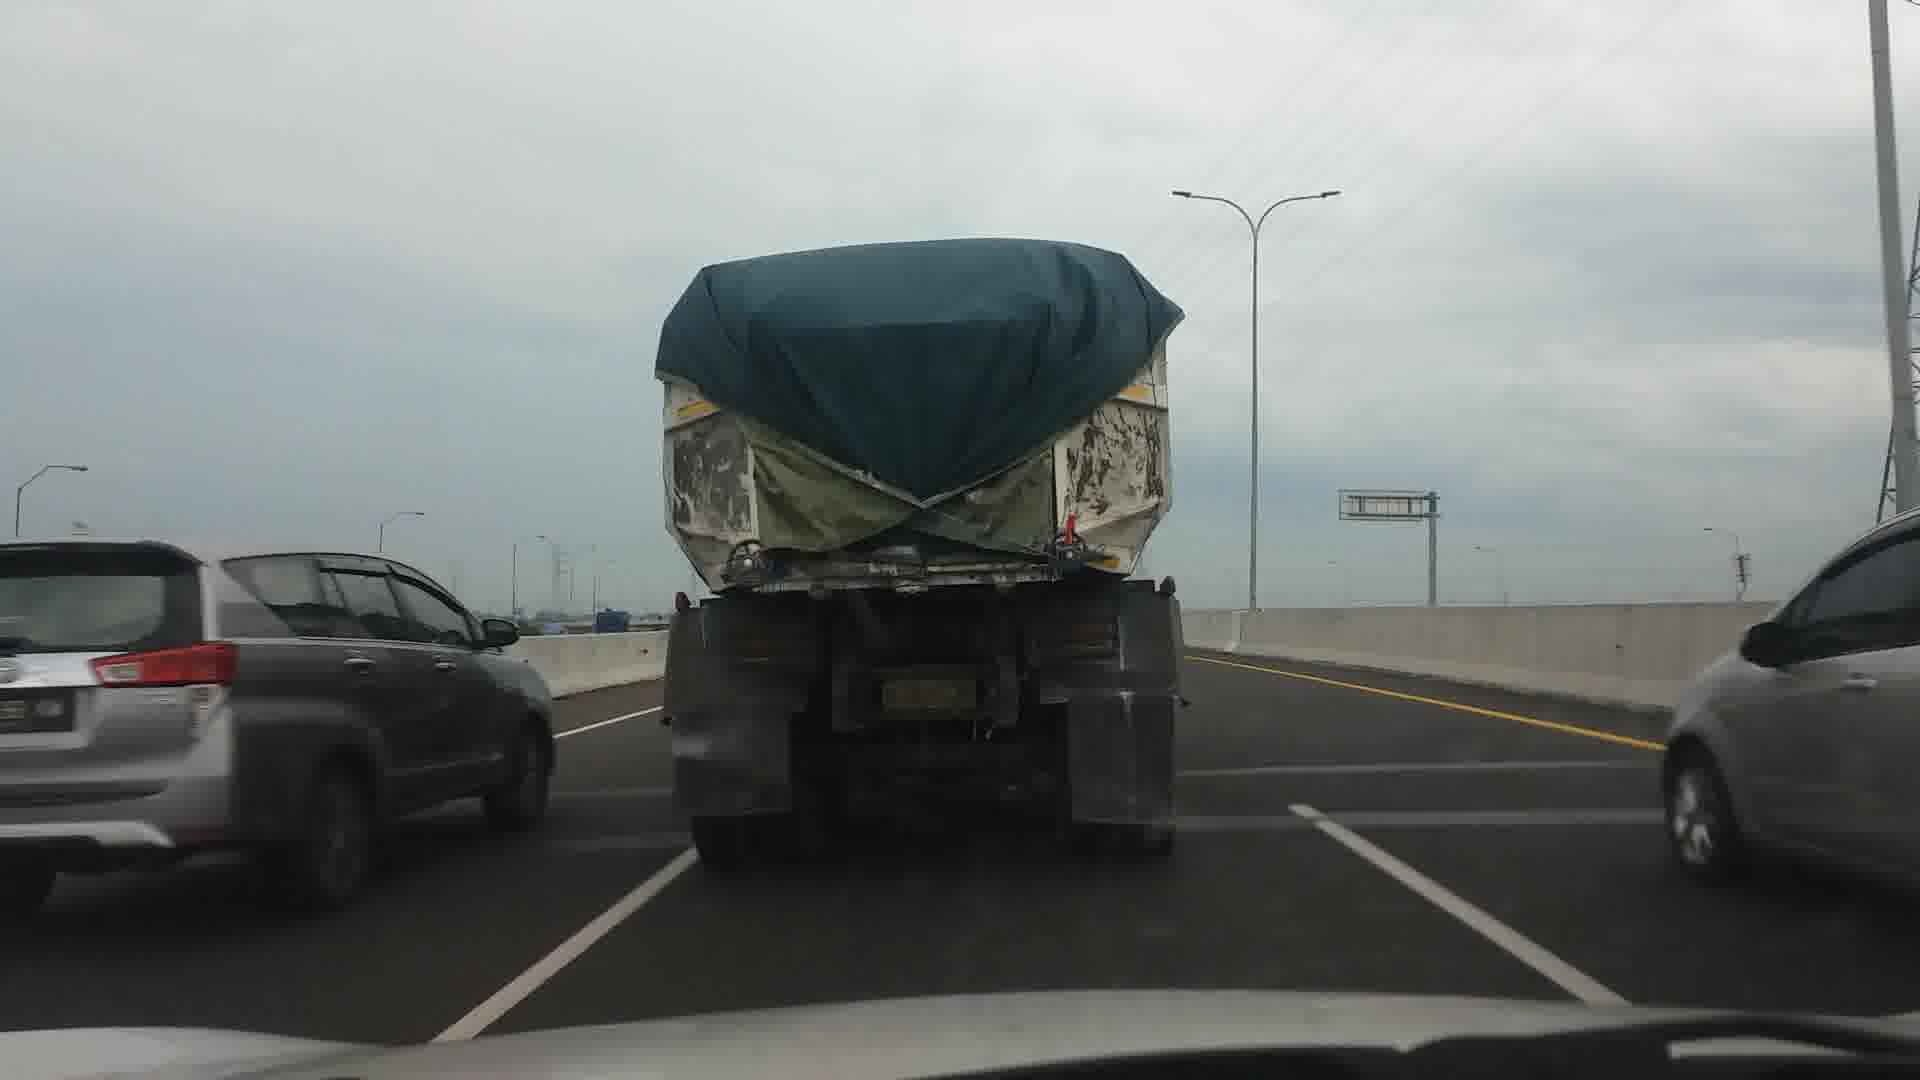plate_positive: (882, 678, 977, 709)
